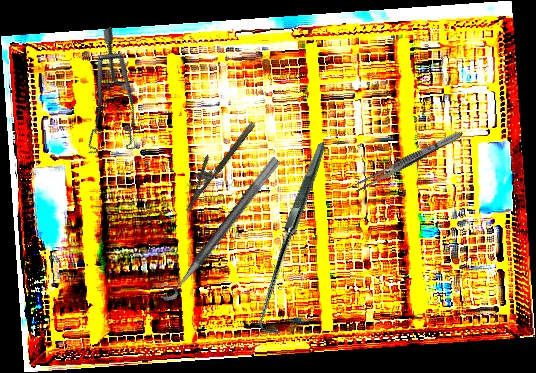Dressing Forceps: (352, 127, 465, 195)
Fixation Ring: (150, 147, 282, 305)
Hook Surgical: (195, 141, 396, 340)
Needle Holder: (172, 112, 257, 213)
Speculum: (39, 26, 170, 170)
